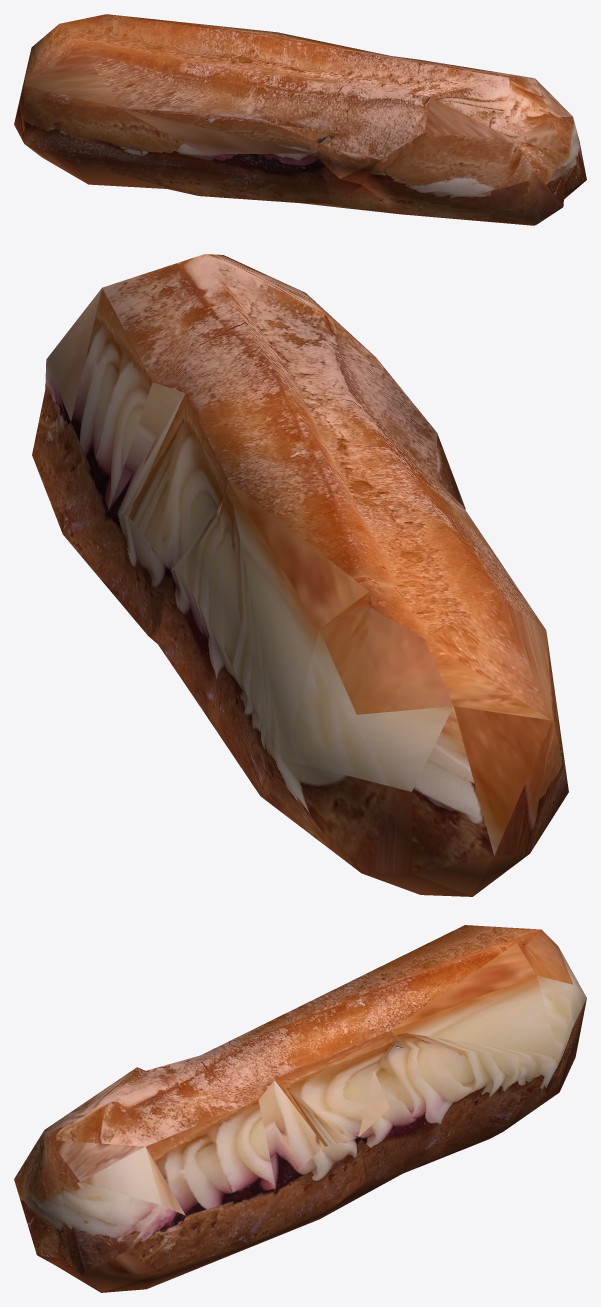
The model's file is eclaire_240.obj.
The picture shows the model from 3 angles, top to bottom: view 1: azimuth 30°, elevation 25°; view 2: azimuth 150°, elevation 25°; view 3: azimuth 270°, elevation 25°; orthographic projection. The views are drawn at different scales.
Bounding box in the file's own units: 93.94 × 31.39 × 91.59.
1 material, 1 textured.
